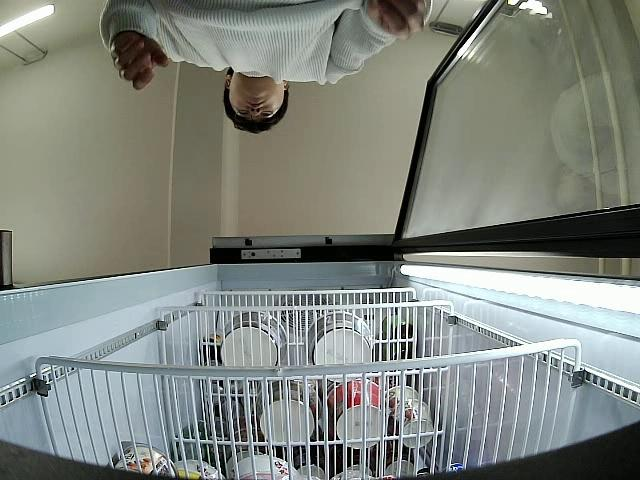00_hand: (111, 34, 170, 91), (367, 0, 431, 41)
